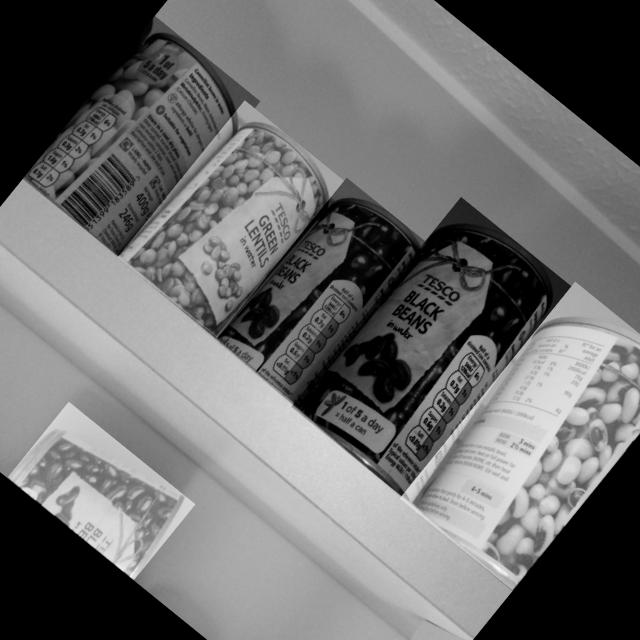Other can: (297, 224, 552, 505), (416, 318, 640, 590), (24, 33, 238, 257), (118, 122, 329, 338), (216, 199, 421, 406), (8, 429, 185, 580)
